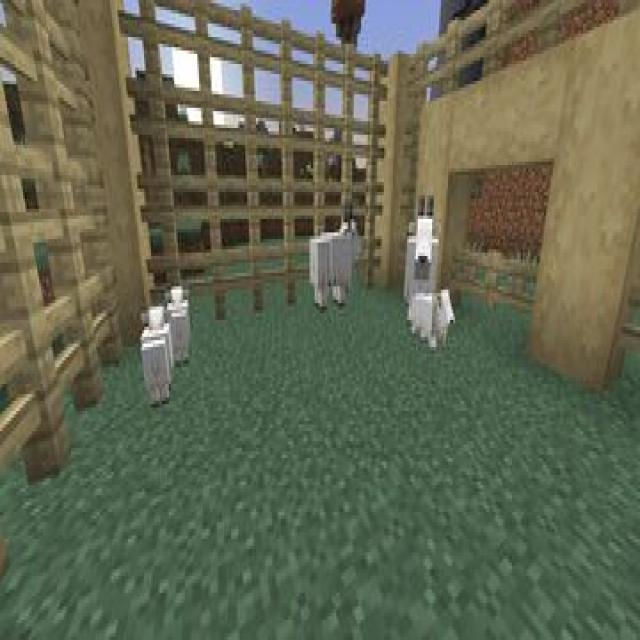Goat: (305, 204, 367, 315), (401, 189, 445, 320), (137, 296, 176, 414), (406, 283, 460, 354), (162, 273, 194, 370)
